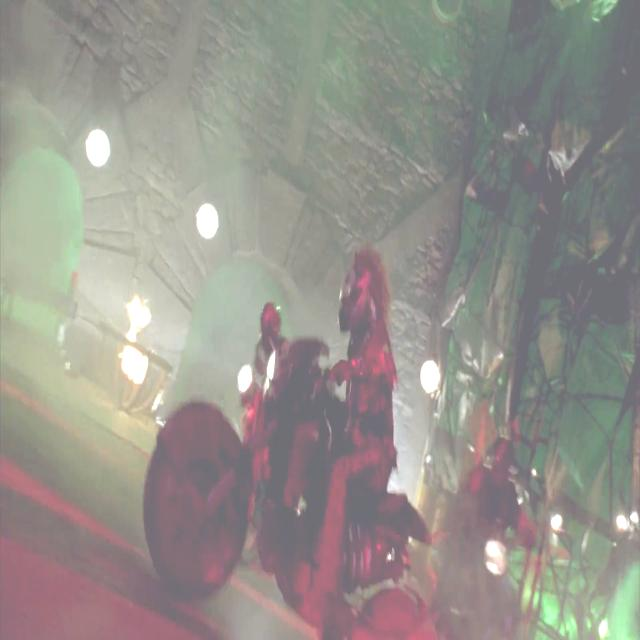Motorbike: (142, 307, 434, 640)
